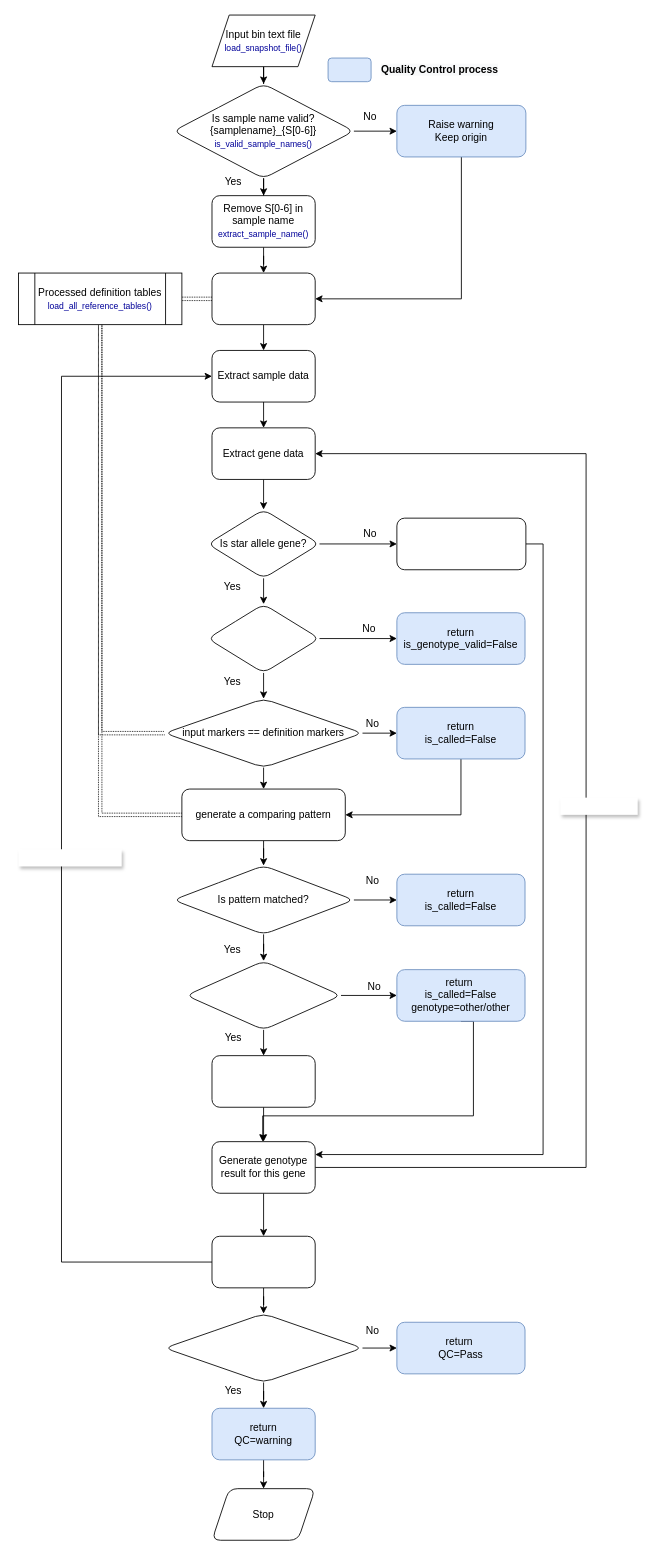
Image size: 657x1556. Some labels were removed from this diagram. The shapes that lost their labels are listed below. From the top down, each one's centre as x and y in pixels, then its label:
At [263,298]: "Merge bin_data table with processed definition tables".
At [461,543]: "extract genotype other information based on bin text file and definition tables".
At [263,638]: "Is genotype valid?".
At [599,807]: "gene in sample".
At [70,858]: "sample in sample list".
At [263,995]: "length matched id <= 1".
At [263,1081]: "extracted genotype results based on matched id".
At [263,1261]: "Generate genotype result for this sample".
At [263,1347]: "is any QC criteria False?".
